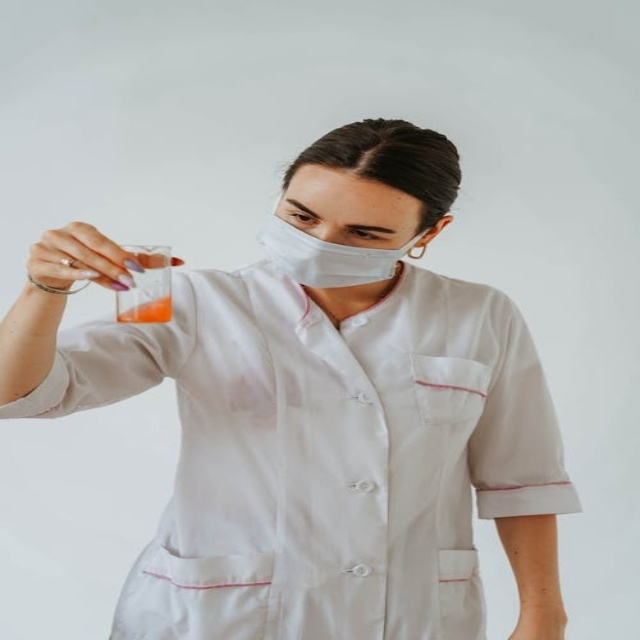Mascara: (257, 205, 428, 288)
Sin_gafas: (282, 192, 397, 247)
Sin_guantes: (18, 214, 148, 298)
